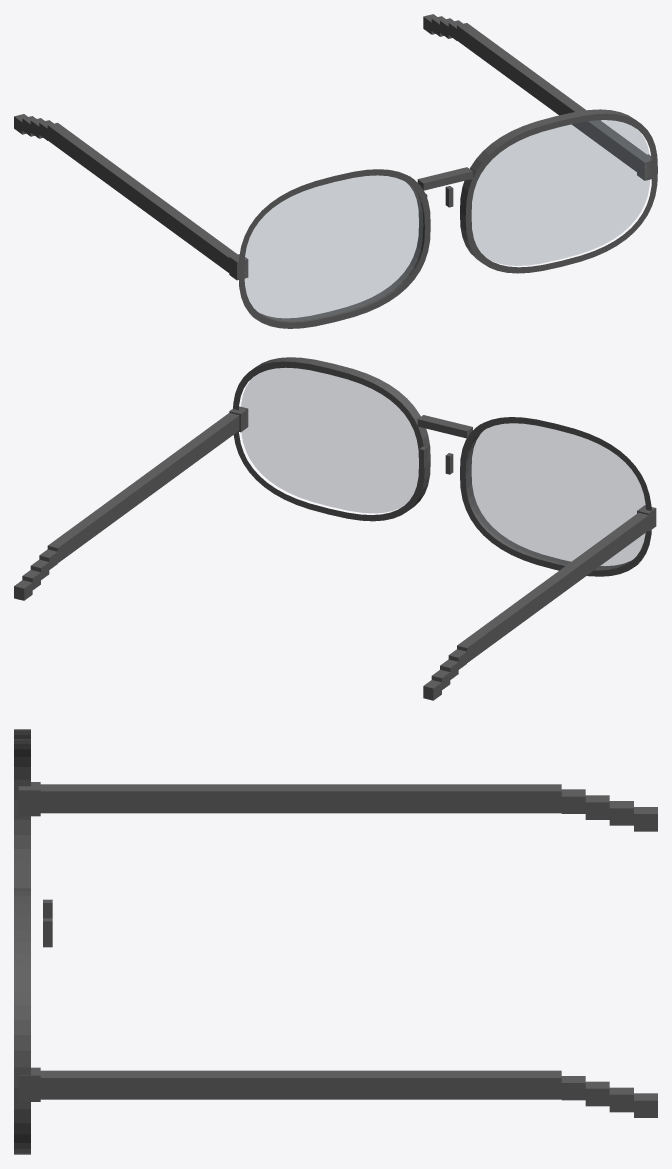
The model's file is p-shield.glb.
The picture shows the model from 3 angles, top to bottom: view 1: azimuth 30°, elevation 25°; view 2: azimuth 150°, elevation 25°; view 3: azimuth 270°, elevation 25°; orthographic projection. The views are drawn at different scales.
Visible parts, largest first — view 1: Lens, Frame; view 2: Lens, Frame; view 3: Frame.
Boxes of the visible parts, x1,y1,x2,y2 form: Lens: [244, 120, 649, 320]; Frame: [14, 14, 657, 328]; Lens: [241, 368, 645, 568]; Frame: [14, 357, 656, 700]; Frame: [14, 729, 657, 1154].
Bounding box in the file's own units: 144 × 48 × 134.
